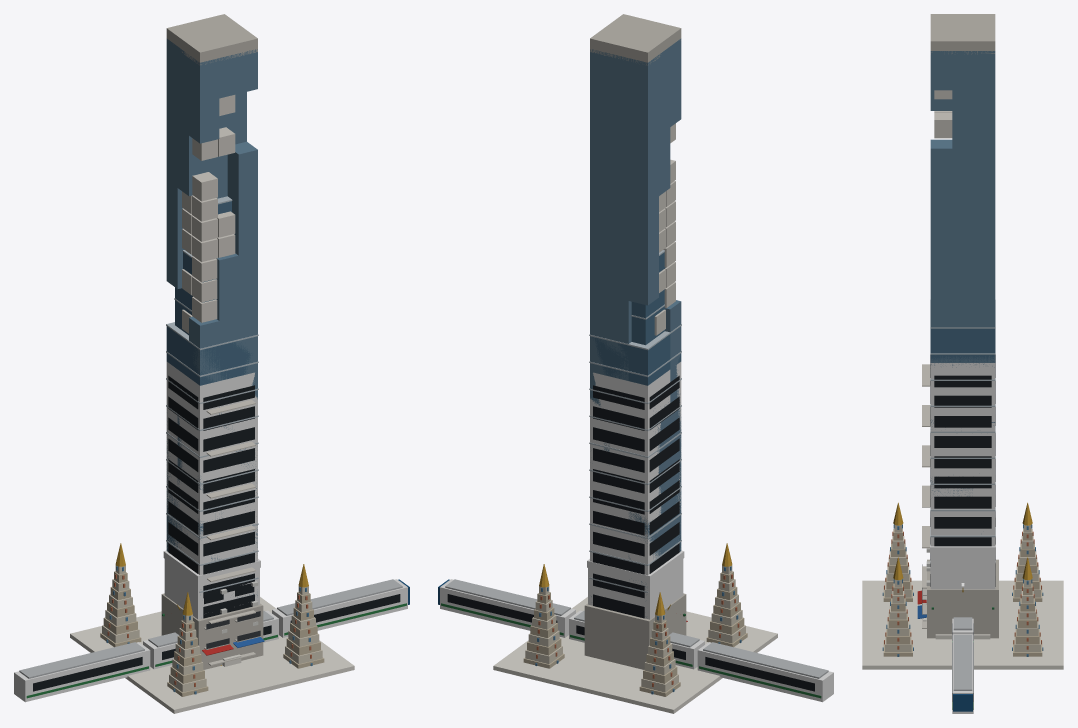
Rendered from bangkok.glb.
The picture shows the model from 3 angles, left to right: view 1: azimuth 30°, elevation 25°; view 2: azimuth 150°, elevation 25°; view 3: azimuth 270°, elevation 25°; orthographic projection. The views are drawn at different scales.
Visible parts, largest first — view 1: pixelturm, condo, prang, skytrain, glasturm, shophouse; view 2: pixelturm, condo, prang, glasturm, skytrain, shophouse; view 3: pixelturm, prang, condo, glasturm, shophouse, skytrain.
Part boxes in pixels (bbox=[...]): pixelturm: bbox=[166, 14, 257, 597]; condo: bbox=[166, 362, 257, 665]; prang: bbox=[70, 543, 354, 713]; skytrain: bbox=[14, 579, 409, 702]; glasturm: bbox=[161, 196, 263, 669]; shophouse: bbox=[163, 550, 264, 655]; pixelturm: bbox=[590, 14, 681, 617]; condo: bbox=[590, 362, 681, 618]; prang: bbox=[493, 543, 777, 713]; glasturm: bbox=[584, 250, 686, 669]; skytrain: bbox=[438, 579, 833, 702]; shophouse: bbox=[587, 550, 687, 621]; pixelturm: bbox=[930, 14, 995, 496]; prang: bbox=[862, 502, 1063, 669]; condo: bbox=[922, 355, 995, 628]; glasturm: bbox=[927, 300, 998, 638]; shophouse: bbox=[917, 518, 995, 618]; skytrain: bbox=[952, 617, 973, 713].
Size of the model in its own units: 59.75 by 92.05 by 28.
